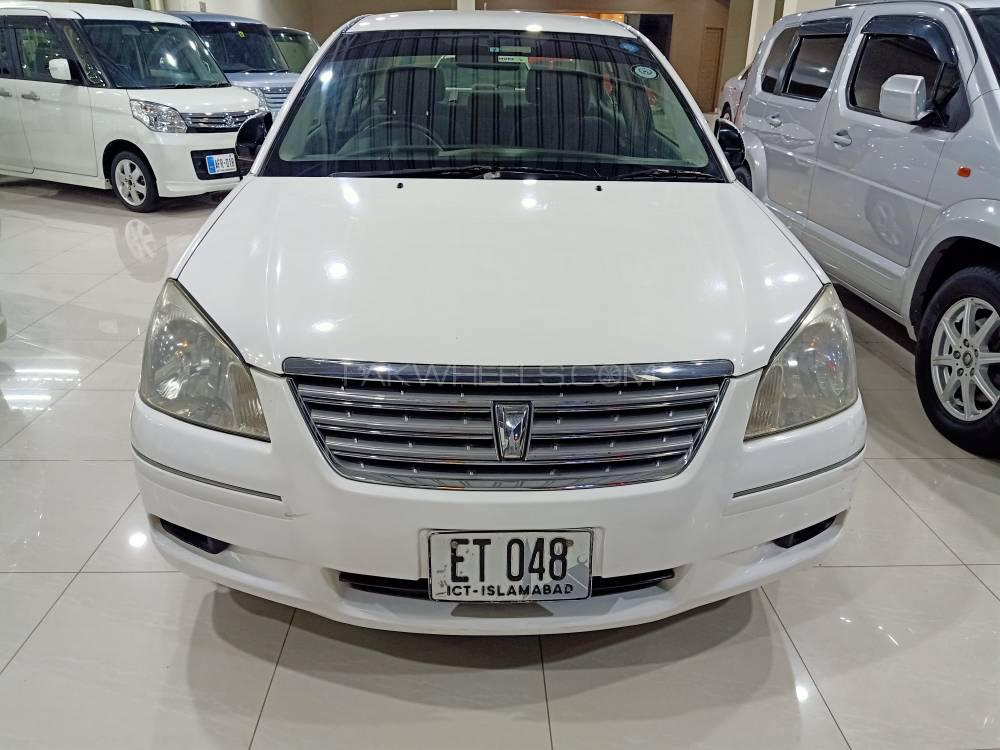license plate: (431, 531, 593, 599)
